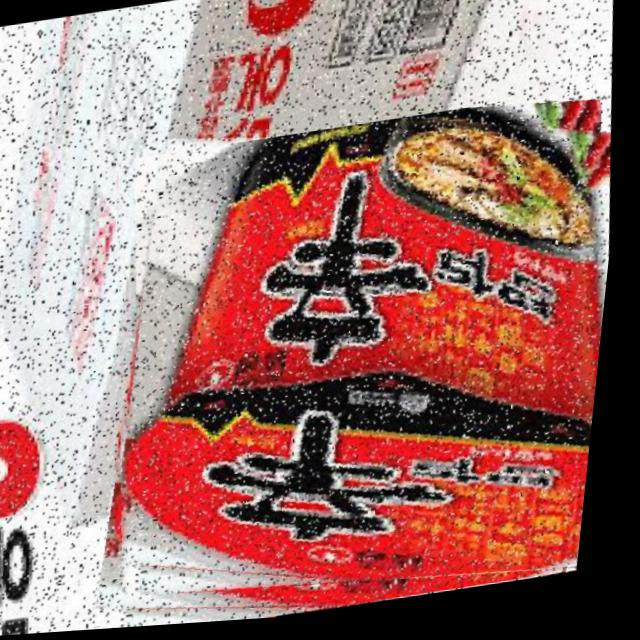Miscellaneous: (78, 94, 630, 634)
